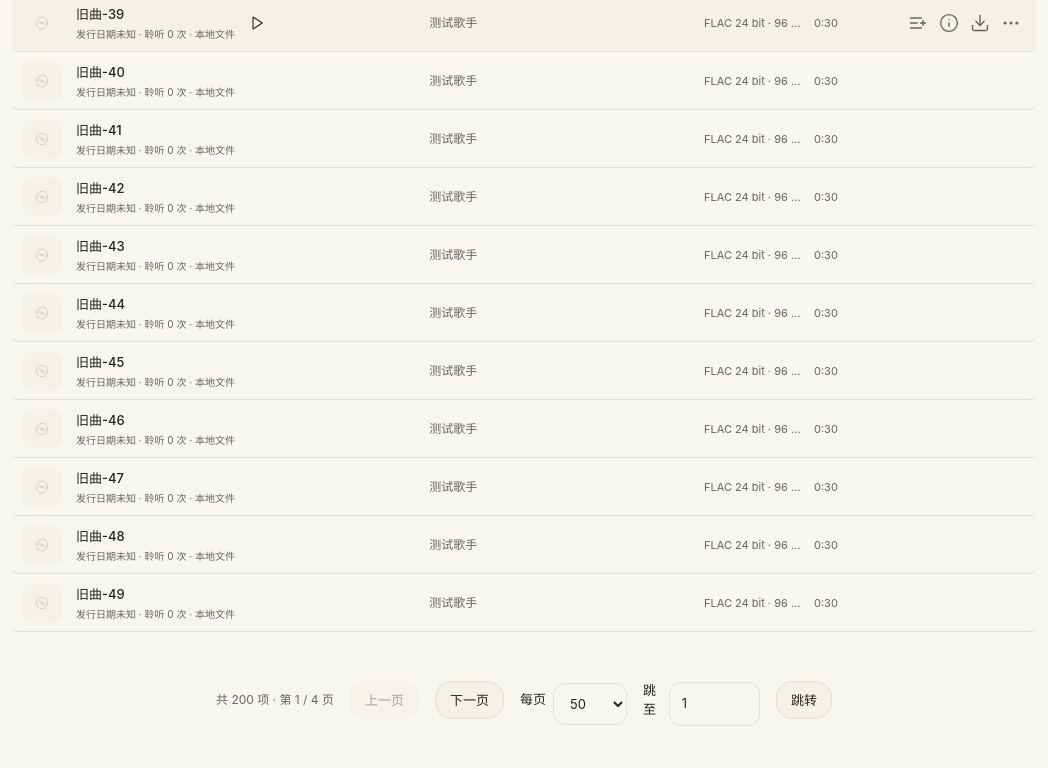
曲目分页的请求生命周期 › 切换查询会取消旧分页，迟到的 finally 不清除新页加载状态
The image size is (1048, 768).
Later steps or results of the test are not shown.
(page scrolled)
Click the button "下一页". click: {"x": 470, "y": 700}
box: [435,681,504,719]
Wait 600 ms
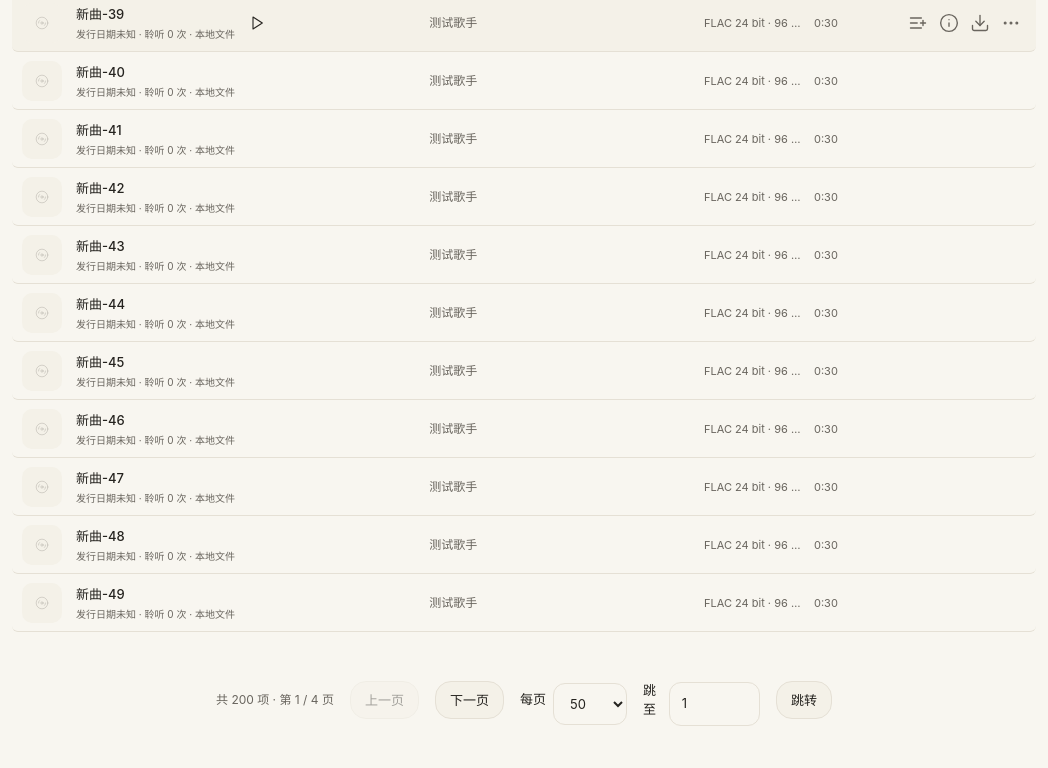
Click the button "下一页". click: {"x": 470, "y": 700}
box: [435,681,504,719]
Wait 300 ms
(page scrolled)
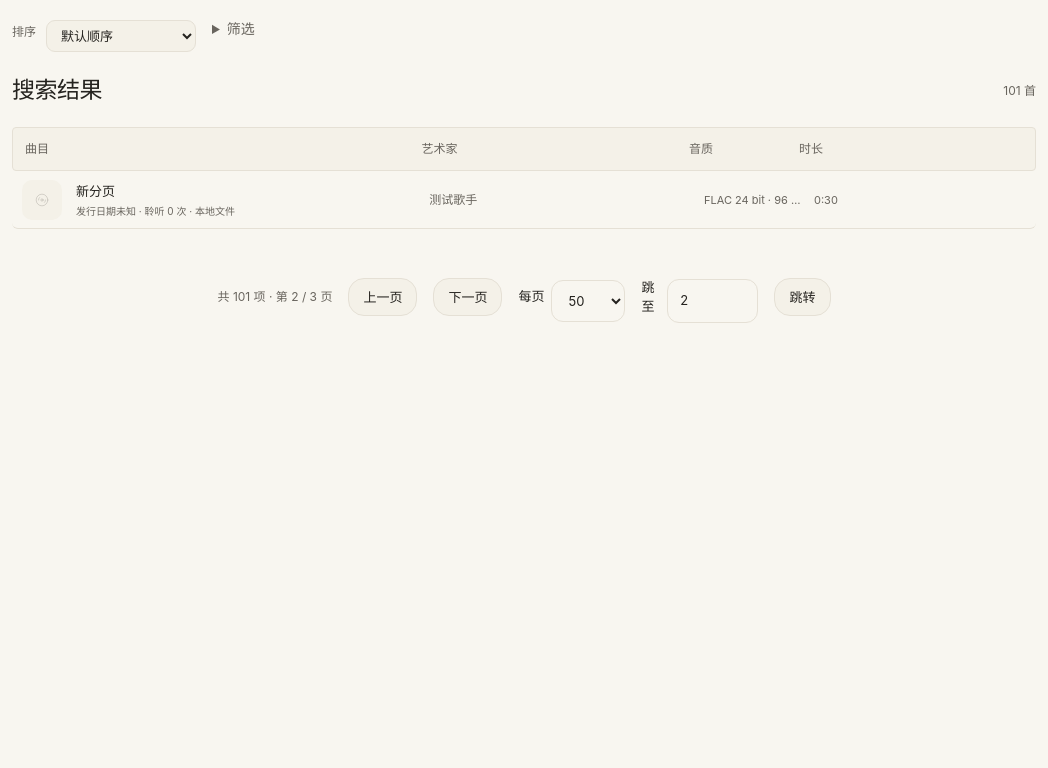
Check: the text "新分页" is shown, box [76,183,115,199]
